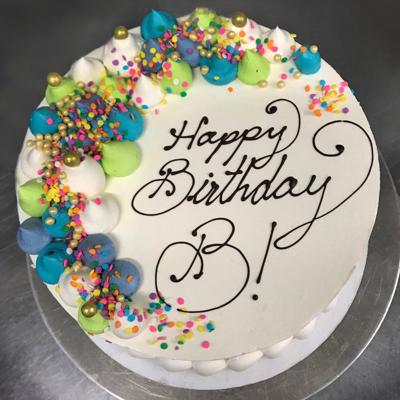cake: (14, 10, 379, 375)
